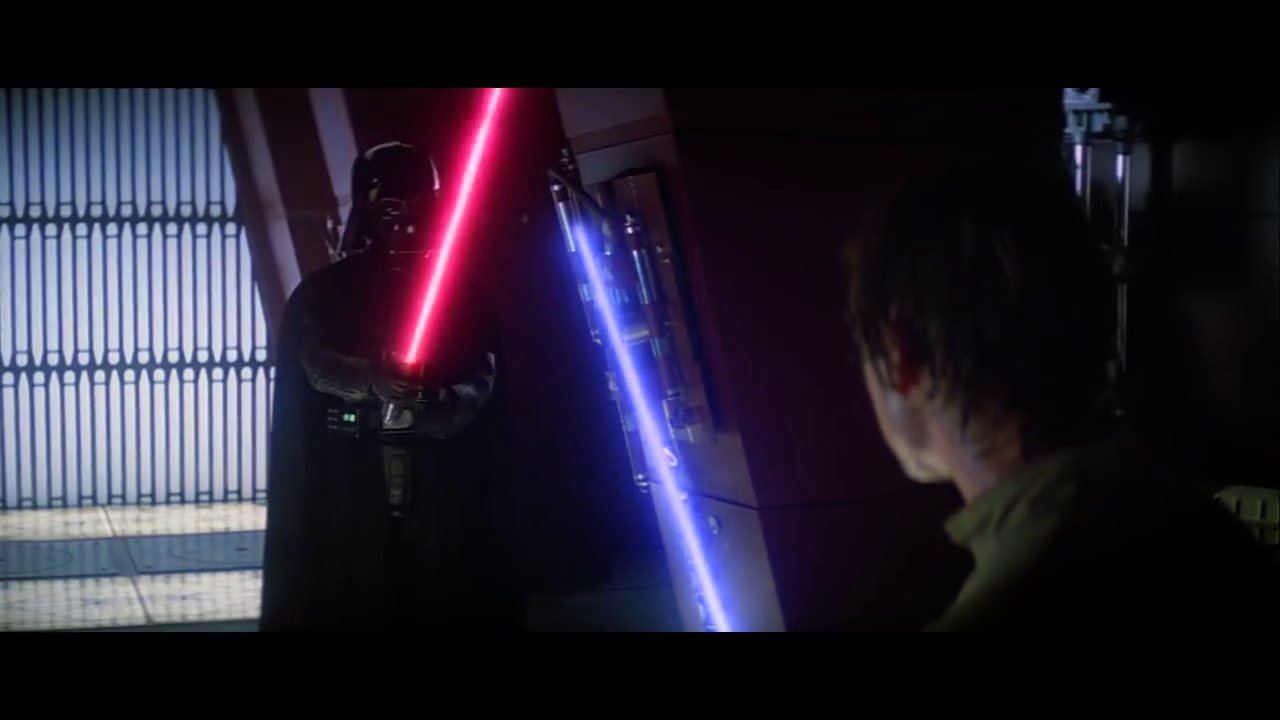lightsaber: (565, 216, 752, 638), (385, 76, 513, 434)
